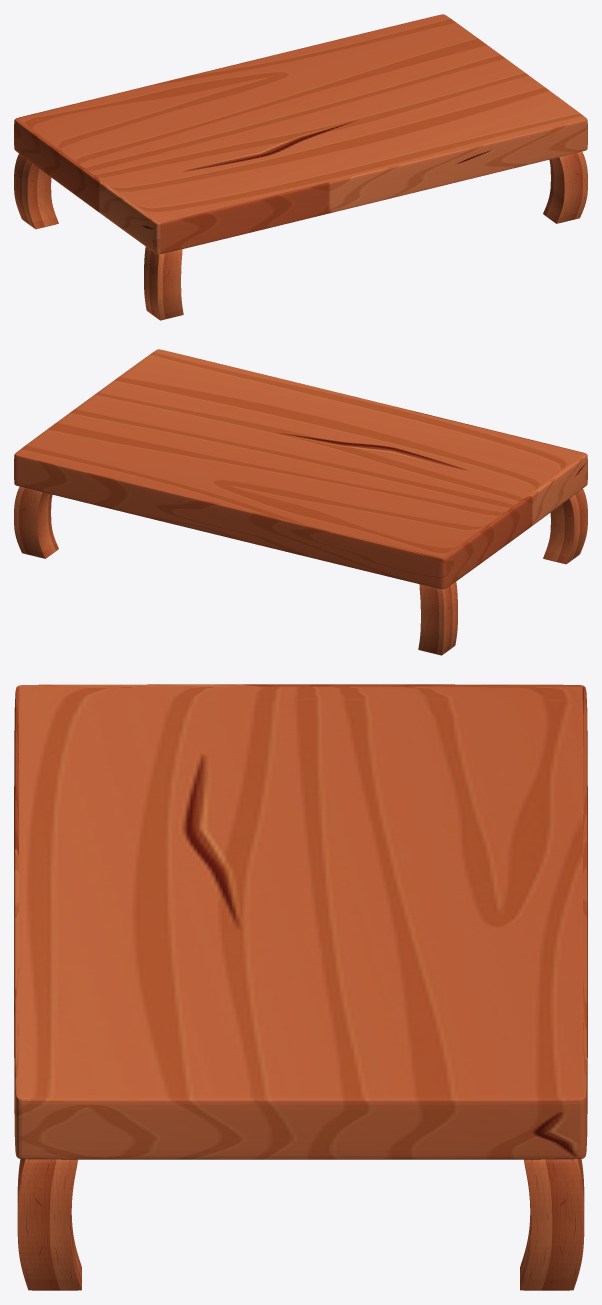
File: rustic_coffee_table_cartoon.glb
3 views of the same model, one above another, from view 1: azimuth 30°, elevation 25°; view 2: azimuth 150°, elevation 25°; view 3: azimuth 270°, elevation 25° (orthographic). The views are drawn at different scales.
Visible parts, largest first — view 1: Table, Pieds; view 2: Table, Pieds; view 3: Table, Pieds.
Part boxes in pixels (x1=…): Table: x1=14, y1=14, x2=587, y2=254; Pieds: x1=14, y1=151, x2=587, y2=320; Table: x1=14, y1=349, x2=587, y2=589; Pieds: x1=14, y1=486, x2=587, y2=655; Table: x1=14, y1=684, x2=587, y2=1159; Pieds: x1=17, y1=1159, x2=584, y2=1290.
Size of the model in its own units: 3.04 by 0.6721 by 1.77.
1 material, 1 textured.
